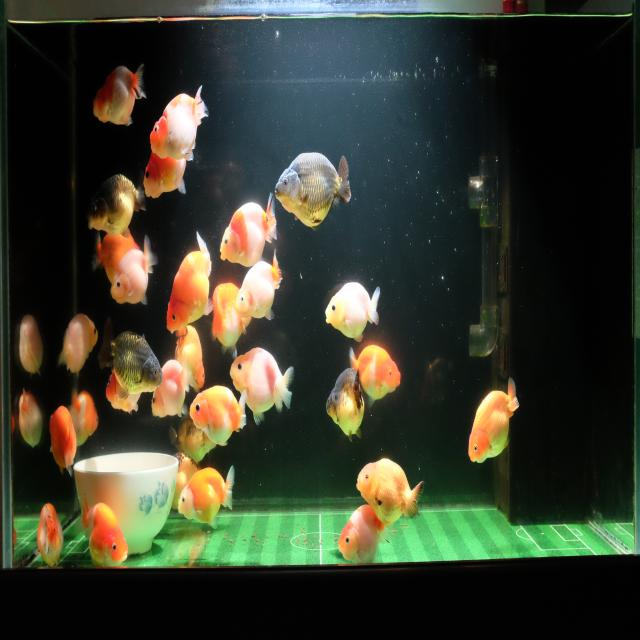Goldfish: (273, 148, 353, 238), (228, 344, 295, 428), (164, 228, 214, 338), (96, 315, 164, 395), (356, 455, 426, 531), (467, 372, 521, 466), (149, 82, 210, 163), (219, 190, 277, 270), (176, 462, 237, 531), (85, 172, 146, 240), (91, 59, 146, 130), (188, 384, 248, 449), (80, 492, 130, 570), (347, 341, 402, 410), (108, 235, 159, 308), (324, 279, 380, 344), (336, 502, 391, 567), (210, 278, 253, 361), (234, 253, 283, 324), (325, 365, 366, 448), (54, 310, 98, 378), (149, 356, 190, 424), (142, 150, 192, 202), (34, 498, 67, 572), (47, 402, 78, 478), (174, 322, 205, 391), (15, 384, 45, 453), (69, 386, 99, 454), (16, 309, 44, 379), (104, 367, 142, 418)
